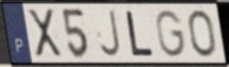5: (60, 7, 90, 61)
G: (154, 9, 188, 59)
J: (98, 8, 123, 59)
L: (124, 9, 155, 58)
O: (187, 8, 218, 59)
X: (26, 8, 65, 60)
